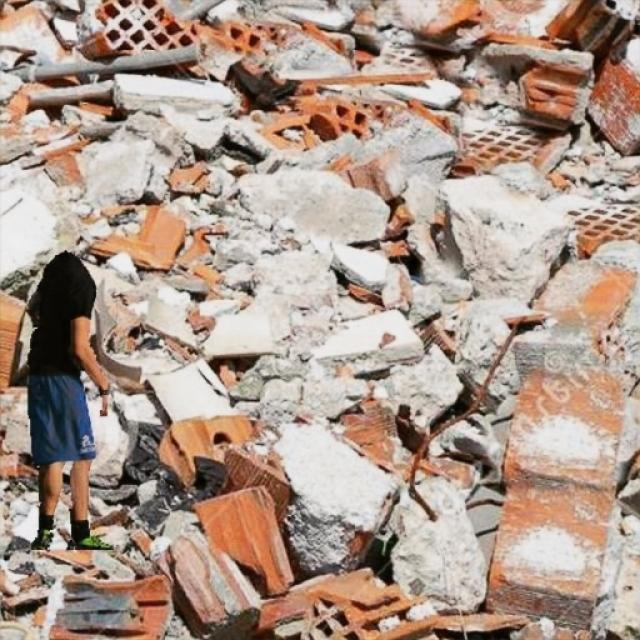Person in Rubble: (28, 250, 112, 549)
